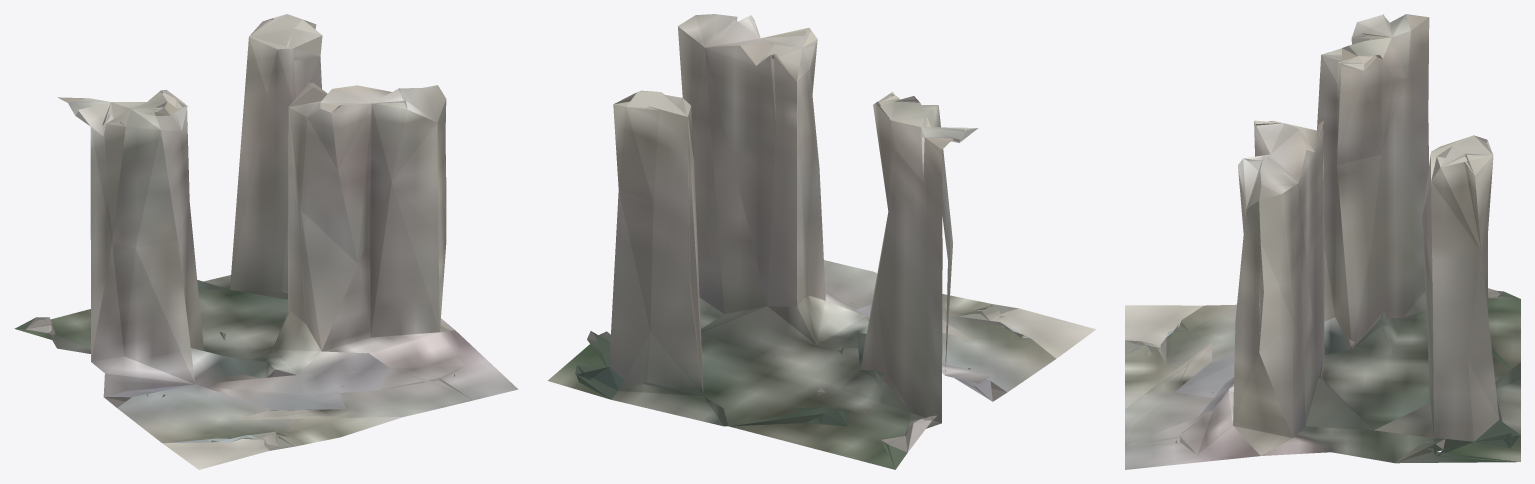
The model's file is Tile__001__004.glb.
3 views of the same model, side by side, from view 1: azimuth 30°, elevation 25°; view 2: azimuth 150°, elevation 25°; view 3: azimuth 270°, elevation 25° (orthographic). The views are drawn at different scales.
Visible parts, largest first — view 1: root; view 2: root; view 3: root.
Boxes of the visible parts, bbox=[...] form: root: bbox=[14, 14, 518, 469]; root: bbox=[547, 14, 1095, 469]; root: bbox=[1125, 14, 1520, 469].
Size of the model in its own units: 101 by 83.47 by 101.
1 material, 1 textured.
